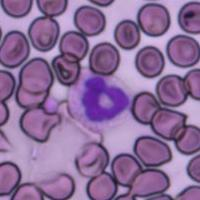N: (67, 69, 134, 134)
